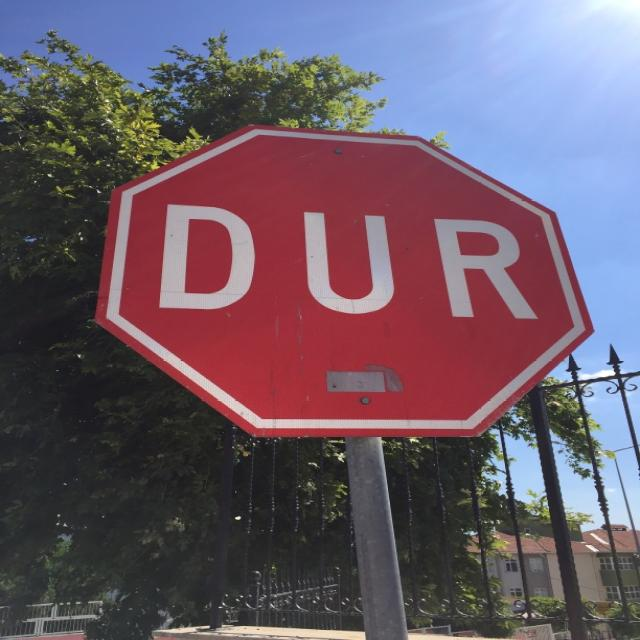dur: (95, 124, 595, 438)
